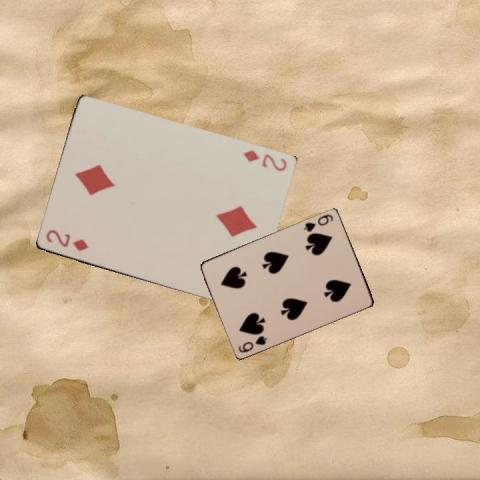2d: (239, 147, 288, 174), (43, 226, 89, 252)
6s: (300, 211, 334, 232), (235, 333, 269, 354)
